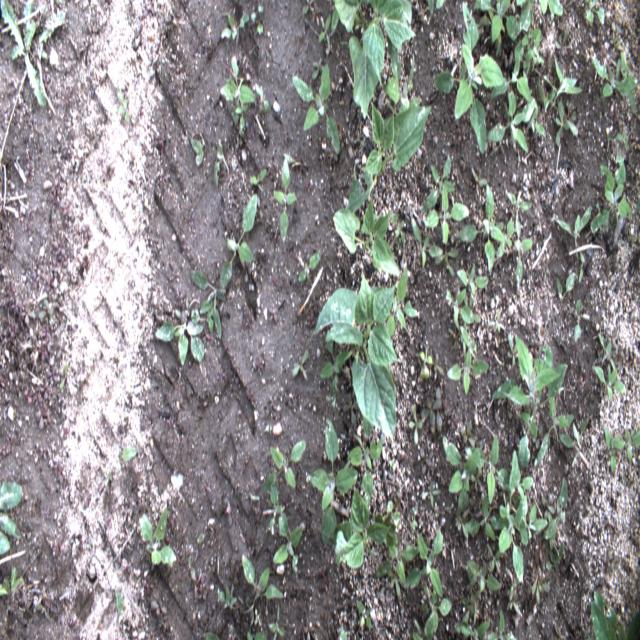crop: (312, 267, 400, 443), (331, 0, 419, 119), (345, 103, 430, 210), (333, 191, 399, 275), (329, 482, 392, 569), (589, 585, 639, 639)
weed: (431, 0, 504, 154), (490, 330, 568, 470), (0, 0, 67, 109), (498, 445, 549, 587), (308, 417, 360, 549), (452, 184, 516, 276), (292, 62, 340, 154), (373, 512, 420, 600), (487, 89, 548, 156), (218, 192, 259, 288), (155, 296, 206, 366), (590, 152, 633, 234), (346, 418, 383, 508), (218, 54, 258, 137), (262, 439, 308, 509), (447, 324, 492, 394), (443, 436, 482, 514), (536, 391, 576, 467), (402, 530, 445, 599), (536, 54, 582, 118), (592, 50, 636, 115), (384, 39, 423, 112), (242, 553, 287, 616), (474, 0, 520, 61), (424, 187, 470, 244), (190, 270, 227, 340), (387, 265, 421, 341), (139, 508, 179, 570), (412, 579, 452, 639), (477, 433, 510, 503), (272, 156, 297, 241), (319, 341, 356, 397), (461, 561, 499, 614), (542, 474, 568, 551), (455, 607, 517, 639), (556, 204, 592, 259), (468, 493, 510, 540), (272, 510, 303, 573), (491, 54, 531, 102), (424, 152, 455, 212), (0, 479, 23, 556), (410, 213, 442, 268), (445, 283, 483, 328), (514, 27, 545, 79), (591, 363, 628, 404), (515, 0, 564, 30), (557, 414, 595, 452), (556, 99, 579, 150), (514, 222, 532, 283), (220, 9, 250, 44), (610, 427, 640, 462), (458, 264, 490, 296), (530, 560, 551, 606), (421, 386, 443, 429), (418, 348, 444, 383), (432, 246, 459, 278), (0, 565, 24, 600), (214, 136, 230, 188), (597, 332, 617, 372), (573, 298, 591, 342), (600, 428, 617, 474), (545, 540, 565, 579), (266, 604, 287, 640), (297, 253, 323, 282), (114, 84, 131, 126), (408, 402, 423, 446), (214, 585, 238, 612), (554, 271, 576, 300), (340, 391, 358, 426), (420, 479, 441, 509), (454, 505, 472, 540), (505, 190, 533, 212), (190, 132, 205, 171), (246, 611, 265, 639), (292, 348, 309, 379), (34, 402, 52, 431), (585, 0, 605, 26), (254, 82, 270, 114), (356, 598, 372, 630), (472, 166, 488, 198), (318, 12, 331, 51), (391, 212, 405, 245), (541, 491, 556, 521), (487, 542, 501, 574), (250, 3, 264, 33), (419, 446, 434, 474), (20, 302, 36, 328), (250, 167, 268, 190), (38, 297, 55, 321), (556, 29, 570, 58), (426, 0, 446, 17), (56, 365, 68, 391), (59, 196, 72, 220), (120, 449, 139, 465), (46, 363, 60, 384), (150, 598, 168, 614), (40, 381, 54, 401), (578, 248, 585, 284), (113, 588, 124, 610), (312, 56, 322, 79), (80, 223, 92, 242), (301, 0, 316, 14), (11, 297, 21, 313)
